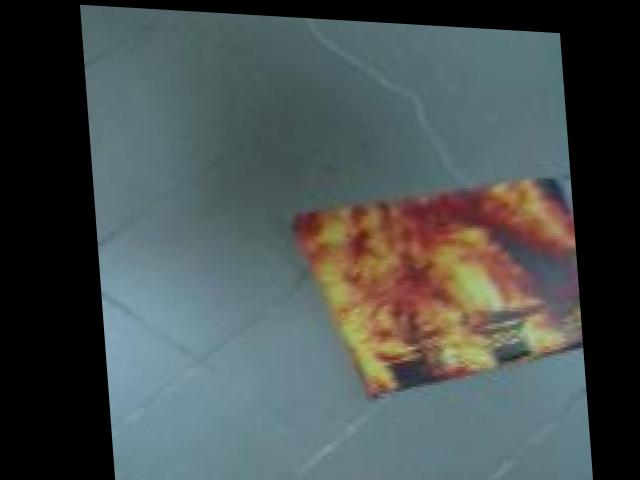fire-poster: (283, 153, 582, 409)
